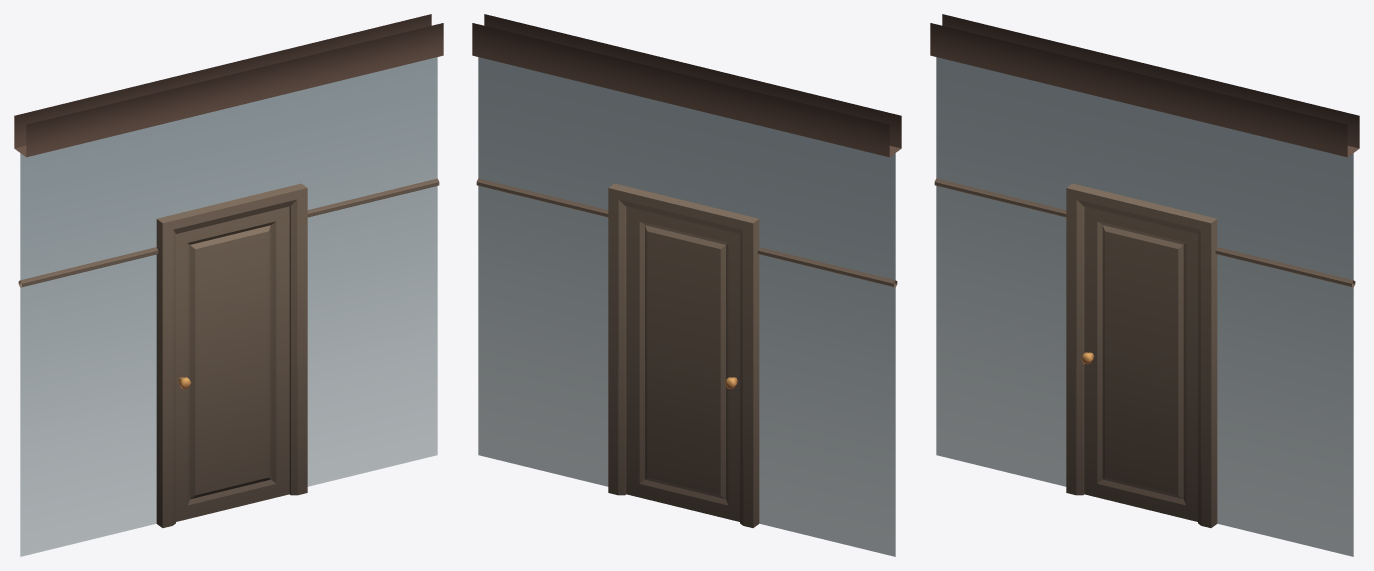
File: Wall_door_upsidedown.fbx
The picture shows the model from 3 angles, left to right: view 1: azimuth 30°, elevation 25°; view 2: azimuth 150°, elevation 25°; view 3: azimuth 330°, elevation 25°; orthographic projection.
Visible parts, largest first — view 1: Wall_door_upsidedown, Door; view 2: Wall_door_upsidedown, Door; view 3: Wall_door_upsidedown, Door.
Part boxes in pixels (left/top/right/bottom): Wall_door_upsidedown: left=14, top=14, right=443, bottom=556; Door: left=176, top=206, right=289, bottom=521; Wall_door_upsidedown: left=472, top=14, right=901, bottom=556; Door: left=626, top=206, right=739, bottom=521; Wall_door_upsidedown: left=930, top=14, right=1359, bottom=556; Door: left=1081, top=206, right=1197, bottom=521.
Size of the model in its own units: 300 by 300 by 22.2.
